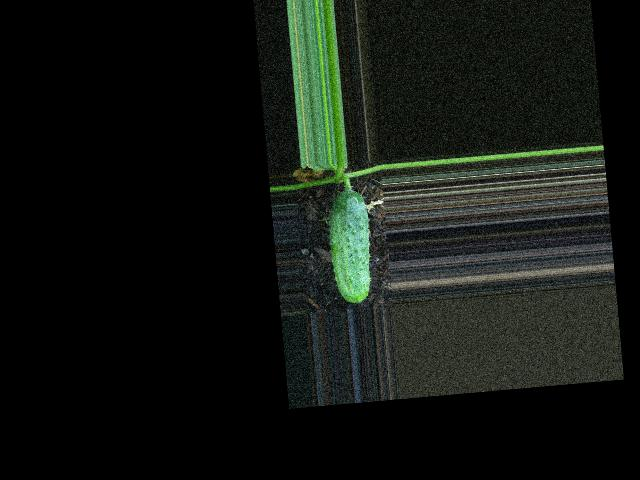cucumber: (325, 189, 376, 305)
